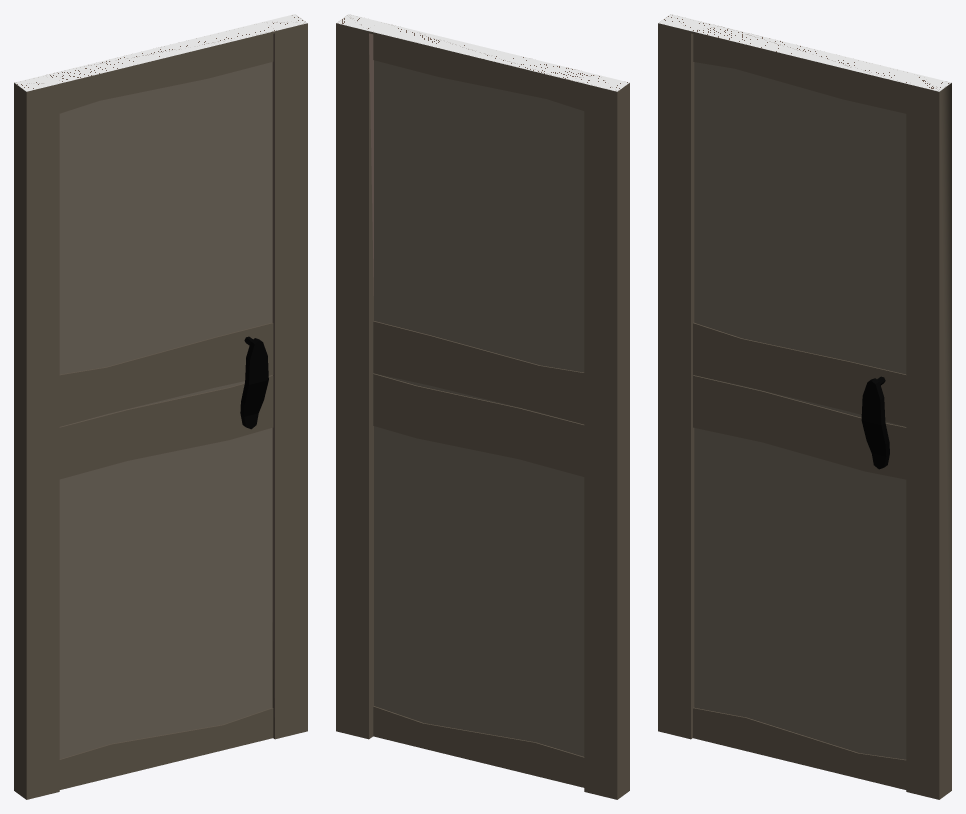
The model's file is Door.fbx.
3 views of the same model, side by side, from view 1: azimuth 30°, elevation 25°; view 2: azimuth 150°, elevation 25°; view 3: azimuth 330°, elevation 25° (orthographic).
Visible parts, largest first — view 1: DOOR_01_1; view 2: DOOR_01_1; view 3: DOOR_01_1.
Boxes of the visible parts, box(x1,y1,x2,y2) form: DOOR_01_1: box(14, 14, 307, 799); DOOR_01_1: box(336, 14, 629, 799); DOOR_01_1: box(658, 14, 951, 799).
Bounding box in the file's own units: 80 × 192 × 10.82.
